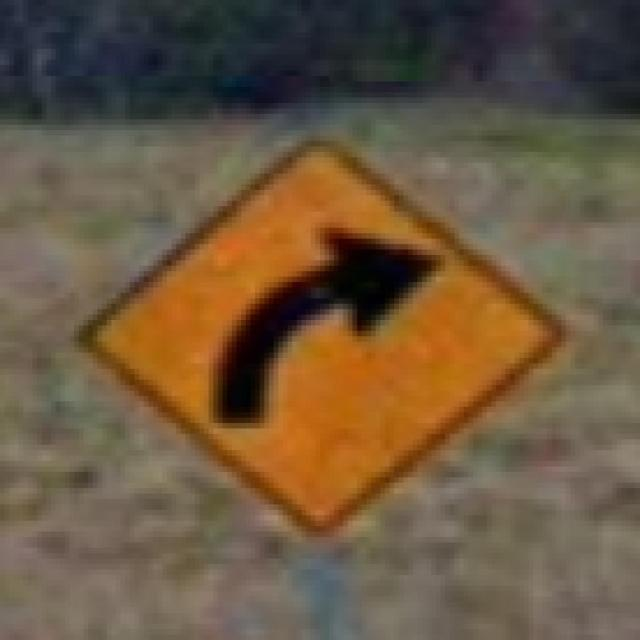Tikungan Ke Kanan: (65, 114, 566, 548)
